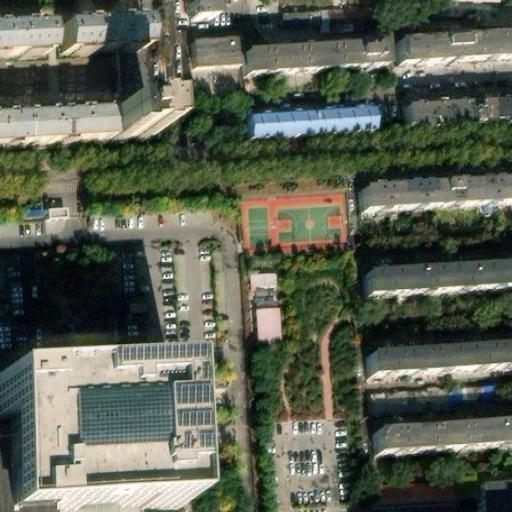building: (355, 173, 512, 211), (361, 257, 512, 294), (366, 334, 512, 370), (372, 417, 512, 454), (242, 40, 379, 75), (390, 30, 512, 69), (367, 384, 508, 415), (400, 90, 512, 124), (246, 115, 371, 145), (57, 14, 144, 52), (192, 36, 243, 64), (101, 107, 145, 138), (254, 303, 283, 342), (478, 487, 512, 512), (249, 270, 279, 289)
